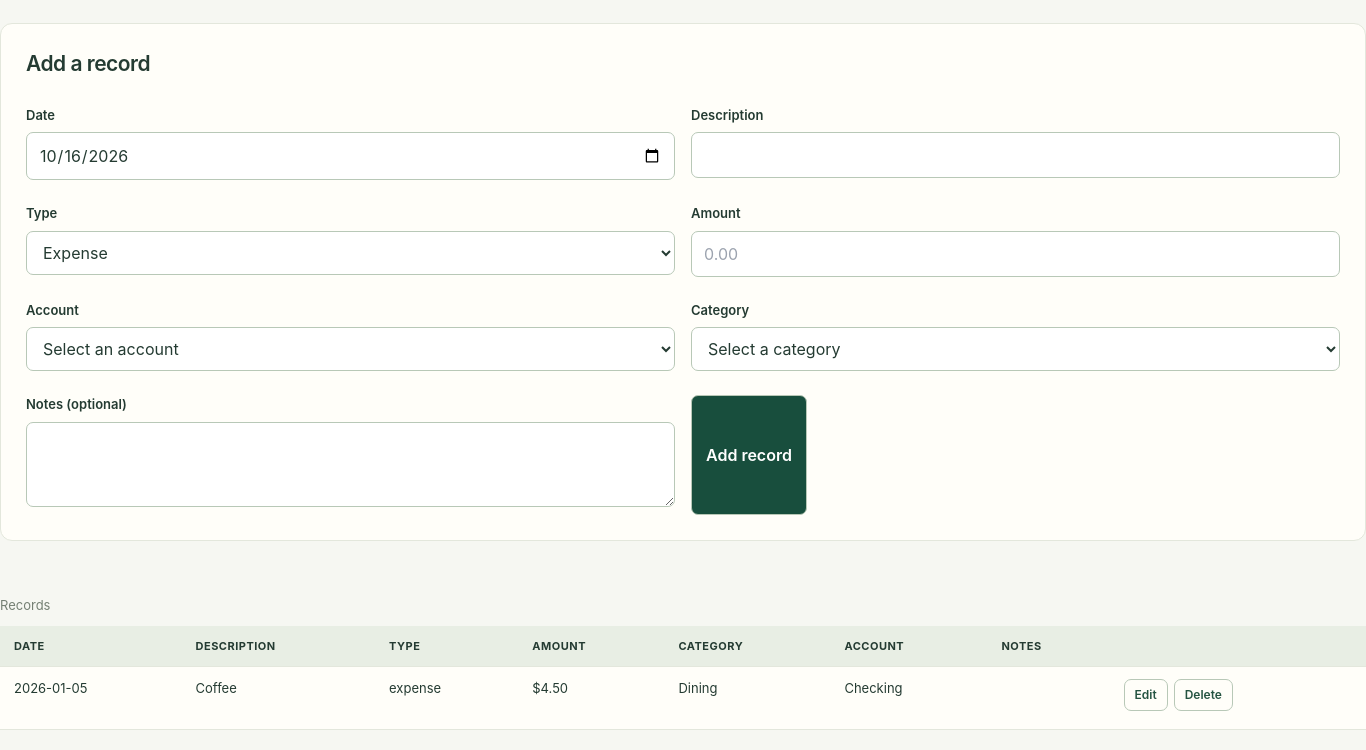
Scenario: RecordsPage: entry form, filters, edit, and delete › deleting a record explains that totals change and sends the current revision
(page scrolled)
Expected: the text "Coffee" is shown, top-left (182, 667), bottom-right (375, 730)
Click the button "Delete".
click(1203, 695)  # box top-left (1174, 679), bottom-right (1233, 711)
(page scrolled)
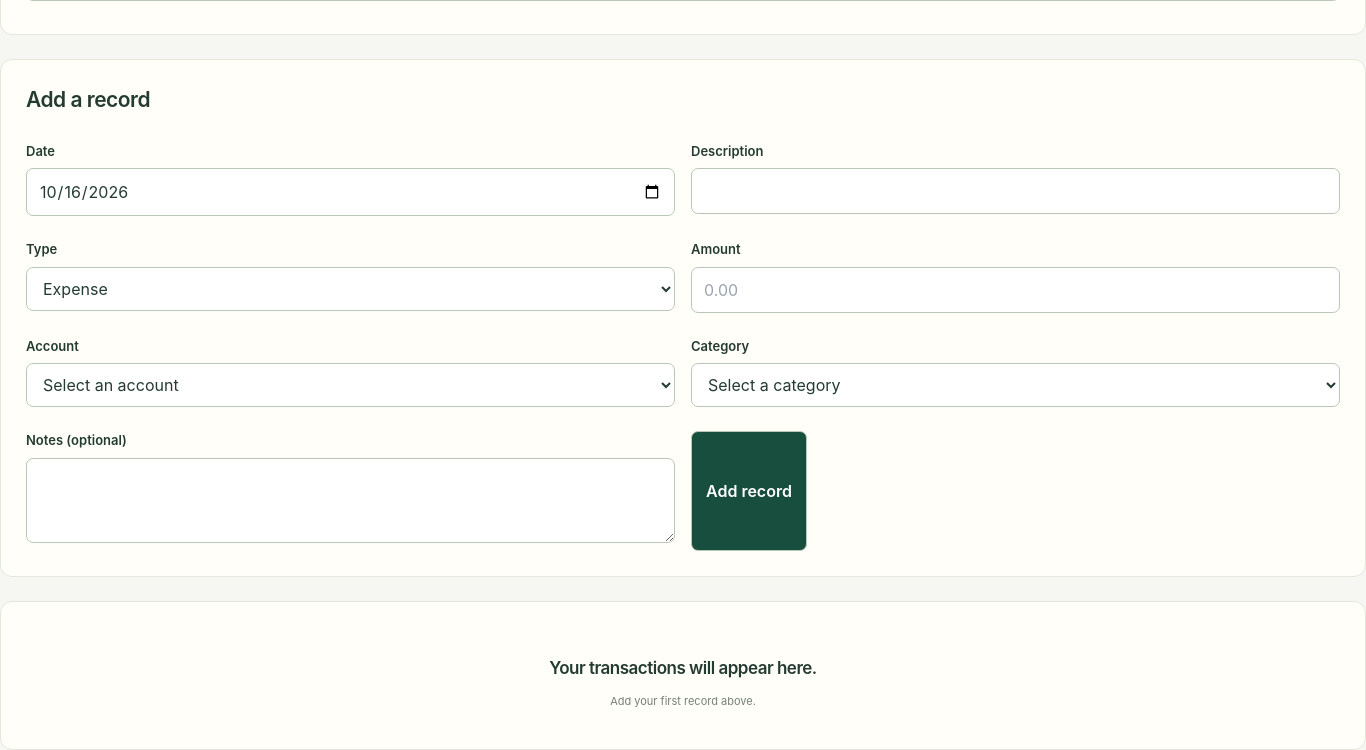
Expected: the heading "Your transactions will appear here." is shown, top-left (549, 658), bottom-right (817, 678)
